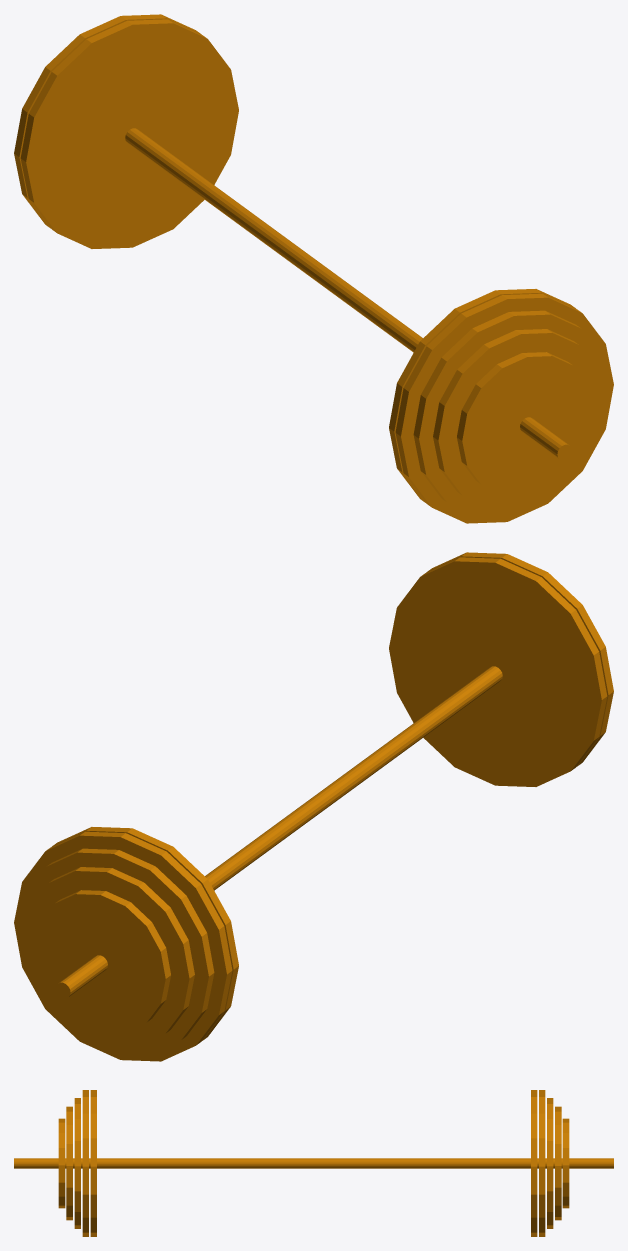
File: Sztanga.obj
3 views of the same model, one above another, from view 1: azimuth 30°, elevation 25°; view 2: azimuth 150°, elevation 25°; view 3: azimuth 270°, elevation 25° (orthographic). The views are drawn at different scales.
Visible parts, largest first — view 1: Cylinder.005, Cylinder.001, Cylinder.004, Cylinder.002, Cylinder.003, Cylinder; view 2: Cylinder.005, Cylinder.001, Cylinder.004, Cylinder.002, Cylinder.003, Cylinder; view 3: Cylinder, Cylinder.004, Cylinder.005, Cylinder.003, Cylinder.002, Cylinder.001.
Part boxes in pixels (x1,y1,x2,y2): Cylinder.005: [20, 19, 575, 502]; Cylinder.001: [457, 352, 592, 494]; Cylinder.004: [14, 14, 613, 523]; Cylinder.002: [433, 329, 603, 507]; Cylinder.003: [413, 310, 609, 516]; Cylinder: [125, 128, 572, 460]; Cylinder.005: [52, 557, 607, 1040]; Cylinder.001: [35, 890, 170, 1032]; Cylinder.004: [14, 552, 613, 1061]; Cylinder.002: [24, 867, 194, 1045]; Cylinder.003: [18, 848, 214, 1054]; Cylinder: [55, 666, 502, 998]; Cylinder: [14, 1158, 613, 1168]; Cylinder.004: [82, 1090, 545, 1236]; Cylinder.005: [90, 1090, 537, 1236]; Cylinder.003: [74, 1098, 553, 1228]; Cylinder.002: [66, 1106, 561, 1220]; Cylinder.001: [58, 1118, 569, 1208].
Size of the model in its own units: 1.48 by 1.48 by 6.05.
